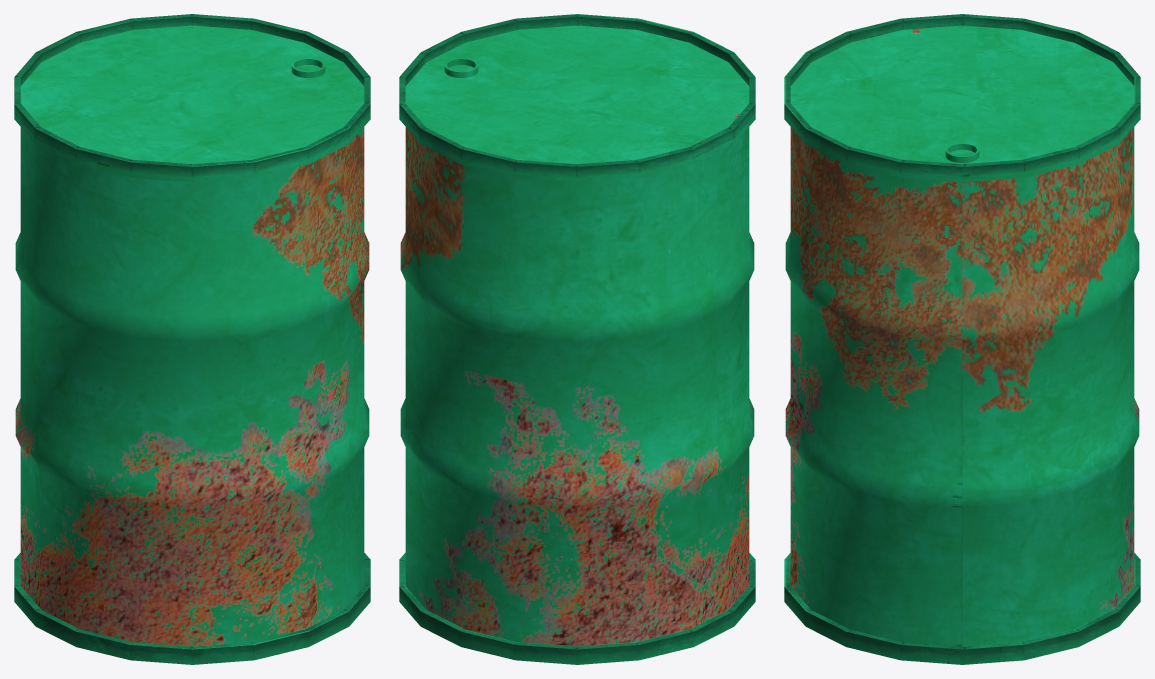
The model's file is Drum.FBX.
3 views of the same model, side by side, from view 1: azimuth 30°, elevation 25°; view 2: azimuth 150°, elevation 25°; view 3: azimuth 270°, elevation 25° (orthographic).
Visible parts, largest first — view 1: drum_baja; view 2: drum_baja; view 3: drum_baja.
Boxes of the visible parts, x1,y1,x2,y2 form: drum_baja: (14, 14, 370, 664); drum_baja: (399, 14, 755, 664); drum_baja: (784, 14, 1140, 664).
Bounding box in the file's own units: 0.56 × 0.85 × 0.5515.
